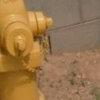Hydrant: (2, 2, 59, 100)
